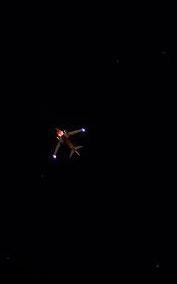Plane: (34, 107, 98, 177)
